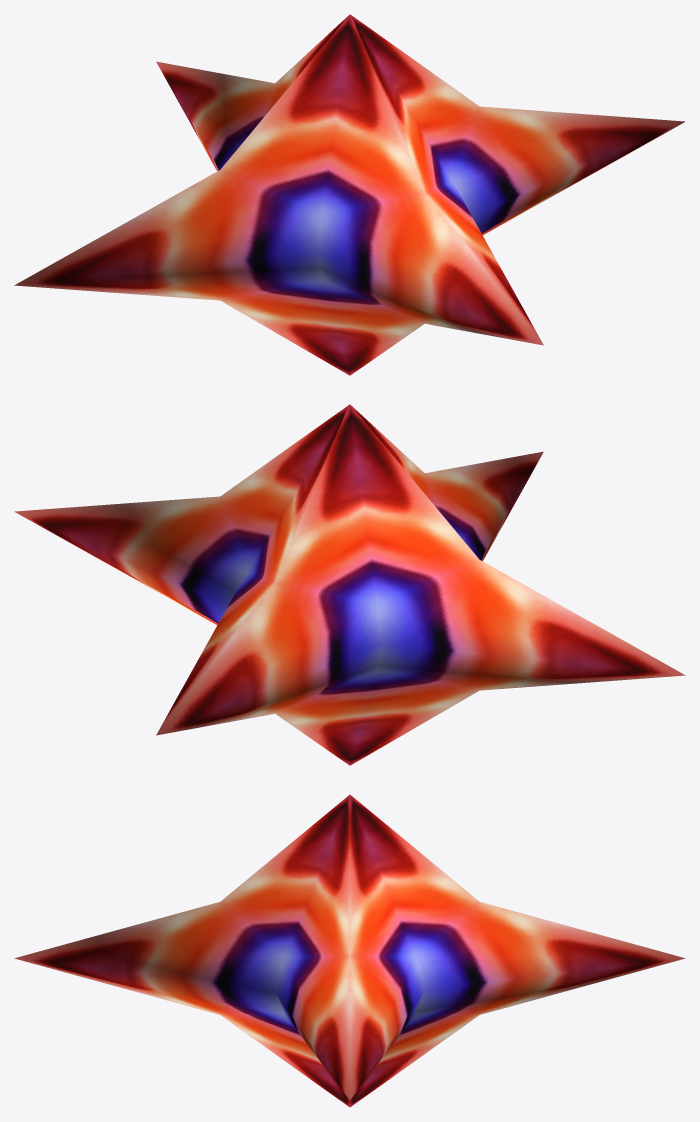
The model's file is ufo-23.fbx.
3 views of the same model, one above another, from view 1: azimuth 30°, elevation 25°; view 2: azimuth 150°, elevation 25°; view 3: azimuth 270°, elevation 25° (orthographic). The views are drawn at different scales.
Visible parts, largest first — view 1: ufo-23; view 2: ufo-23; view 3: ufo-23.
Part boxes in pixels (x1,y1,x2,y2): ufo-23: (14, 14, 685, 375); ufo-23: (14, 404, 685, 765); ufo-23: (14, 794, 685, 1107).
Size of the model in its own units: 60.71 by 31.22 by 60.71.
